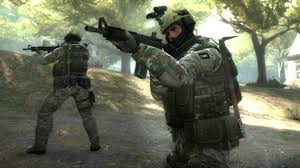gun: (83, 15, 174, 78), (21, 40, 65, 55)
